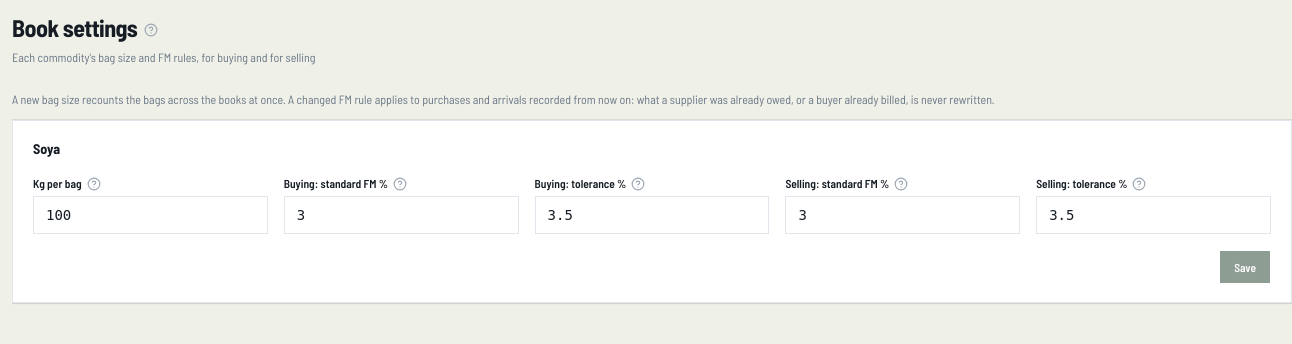
Scenario: BookSettings › refuses a selling tolerance below its standard
Replace the text in the field labelled "Selling: tolerance %" with "2" at (1154, 215), box [1036,196,1271,234]
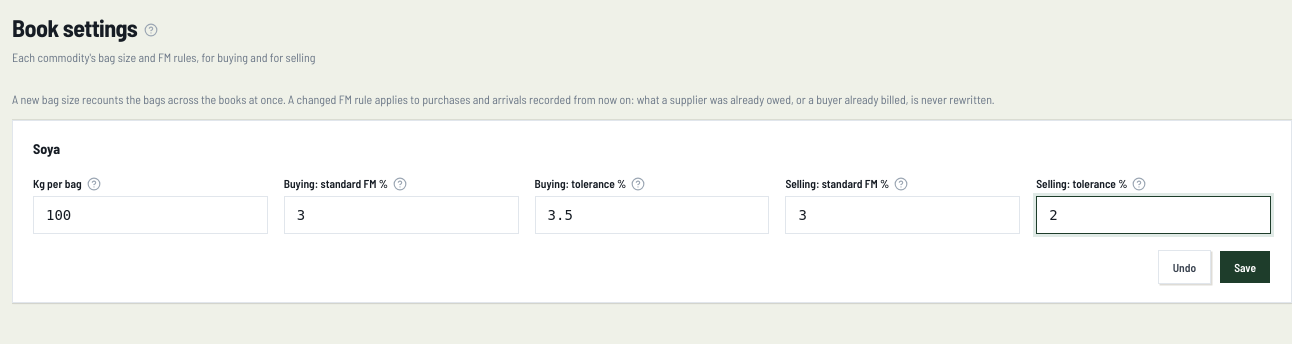
Click the button "Save" at (1245, 267), box [1219,250,1271,284]
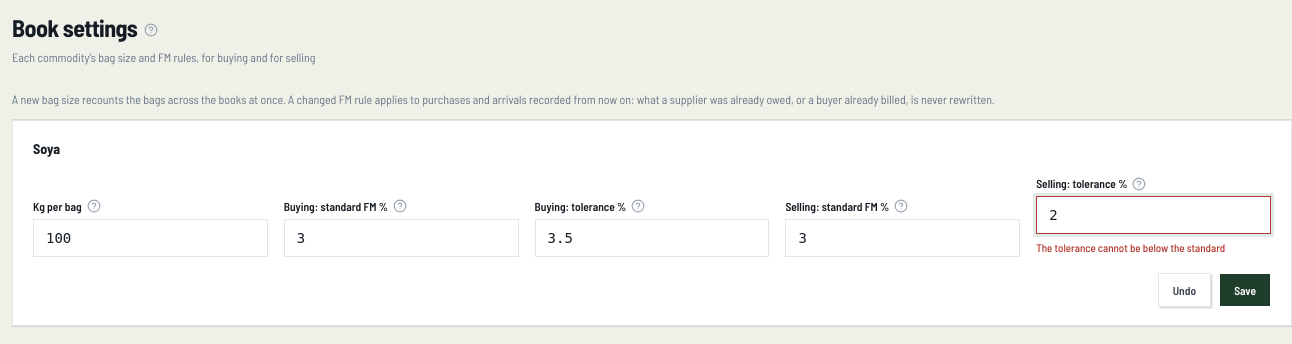
Now the message "The tolerance cannot be below the standard" is shown, box [1036,241,1225,254]
